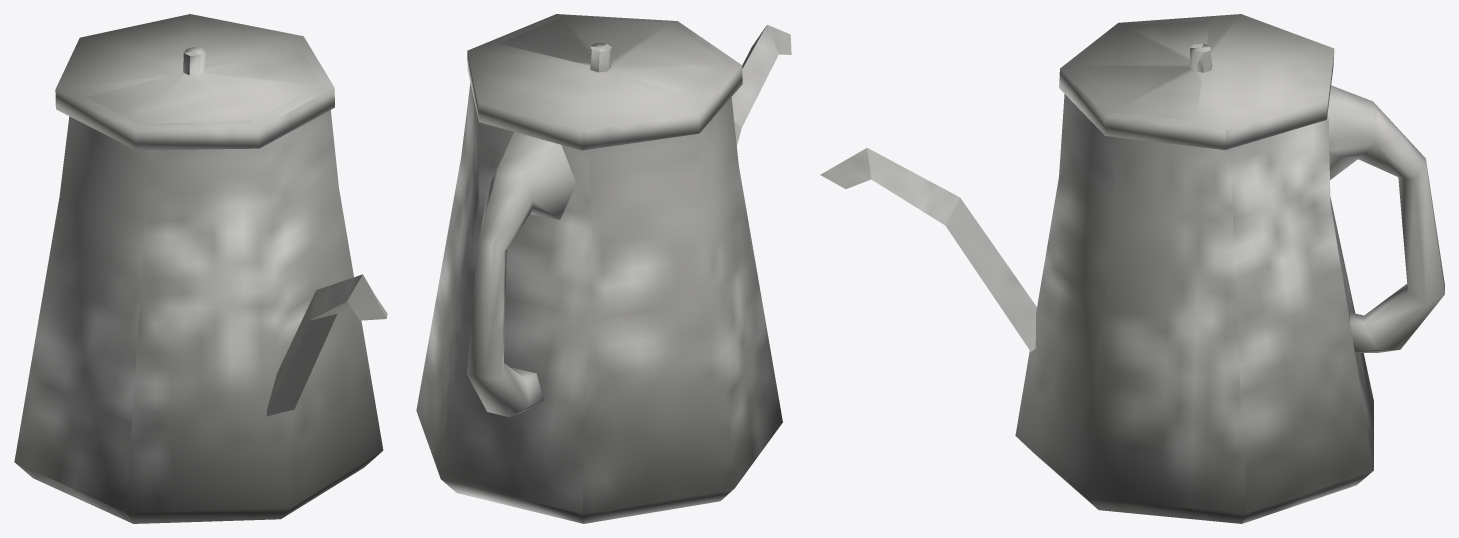
File: teapot.fbx
The picture shows the model from 3 angles, left to right: view 1: azimuth 30°, elevation 25°; view 2: azimuth 150°, elevation 25°; view 3: azimuth 270°, elevation 25°; orthographic projection.
Visible parts, largest first — view 1: Teapot; view 2: Teapot; view 3: Teapot.
Part boxes in pixels (x1,y1,x2,y2): Teapot: [14, 14, 387, 523]; Teapot: [416, 14, 791, 523]; Teapot: [820, 14, 1444, 523].
Bounding box in the file's own units: 17.19 × 20.87 × 29.2.
